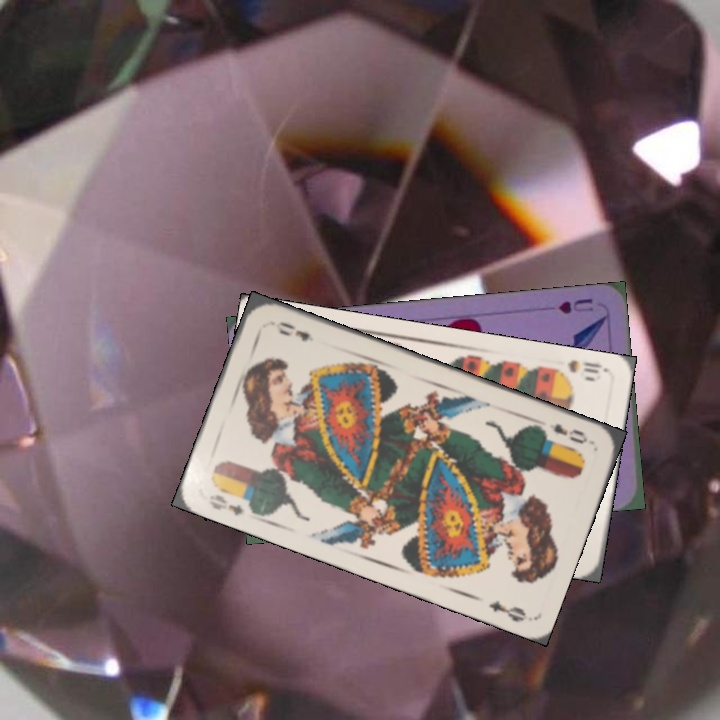EO: (537, 419, 590, 447), (205, 490, 247, 518)
HU: (554, 294, 596, 317)
S10: (548, 356, 608, 384)
